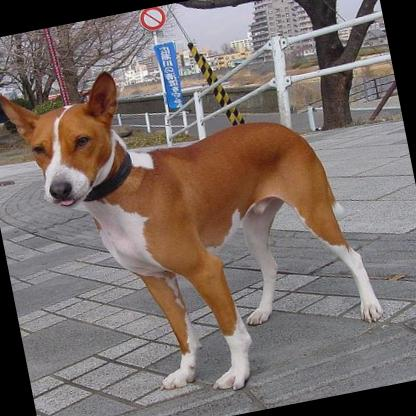basenji: (0, 23, 399, 416)
